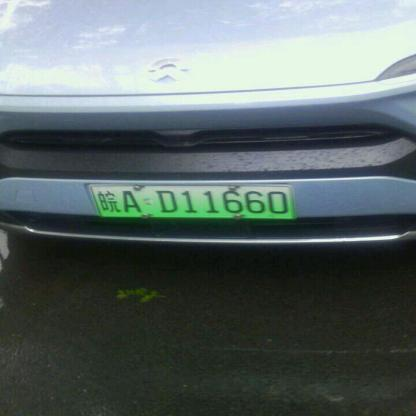lp: (90, 185, 294, 218)
